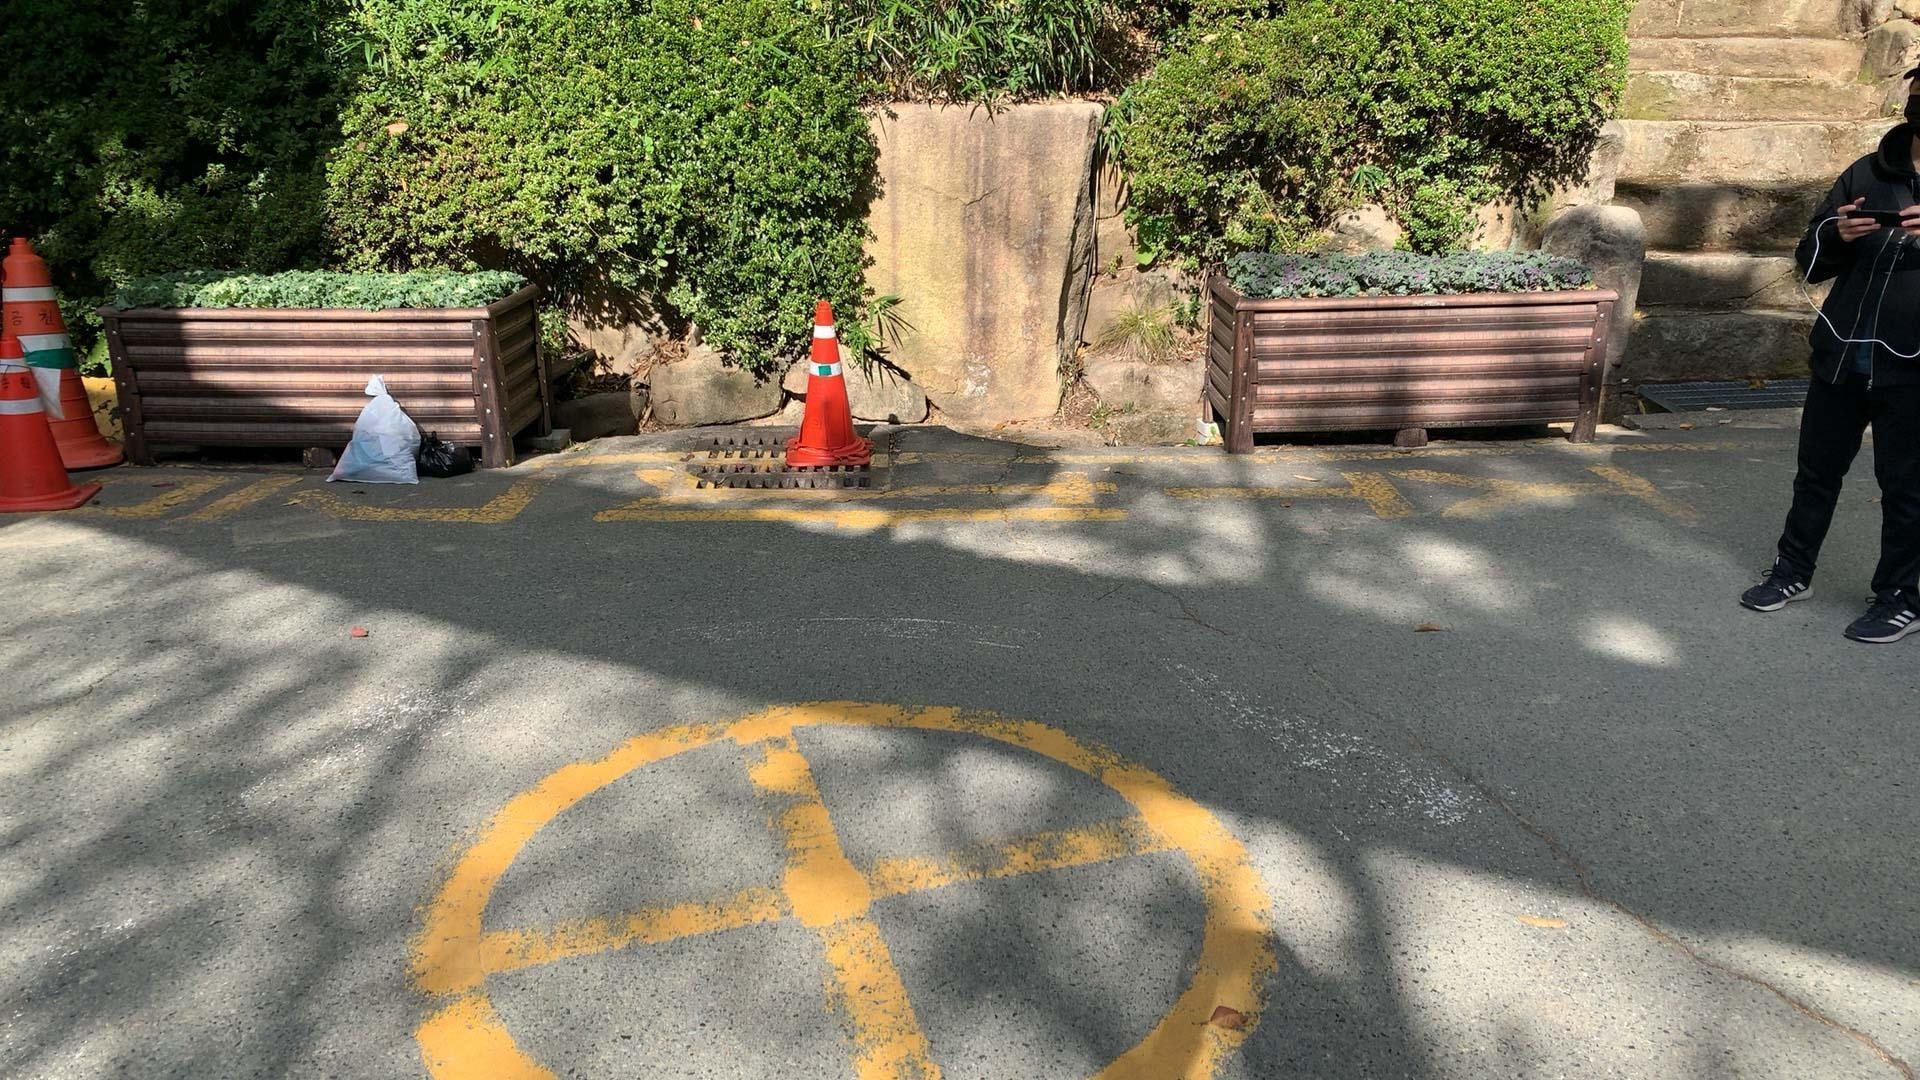black_bag: (413, 423, 477, 480)
white_bag: (319, 372, 427, 489)
